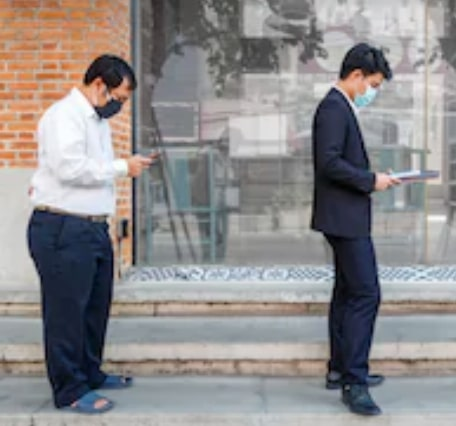Caution: (26, 43, 394, 416)
